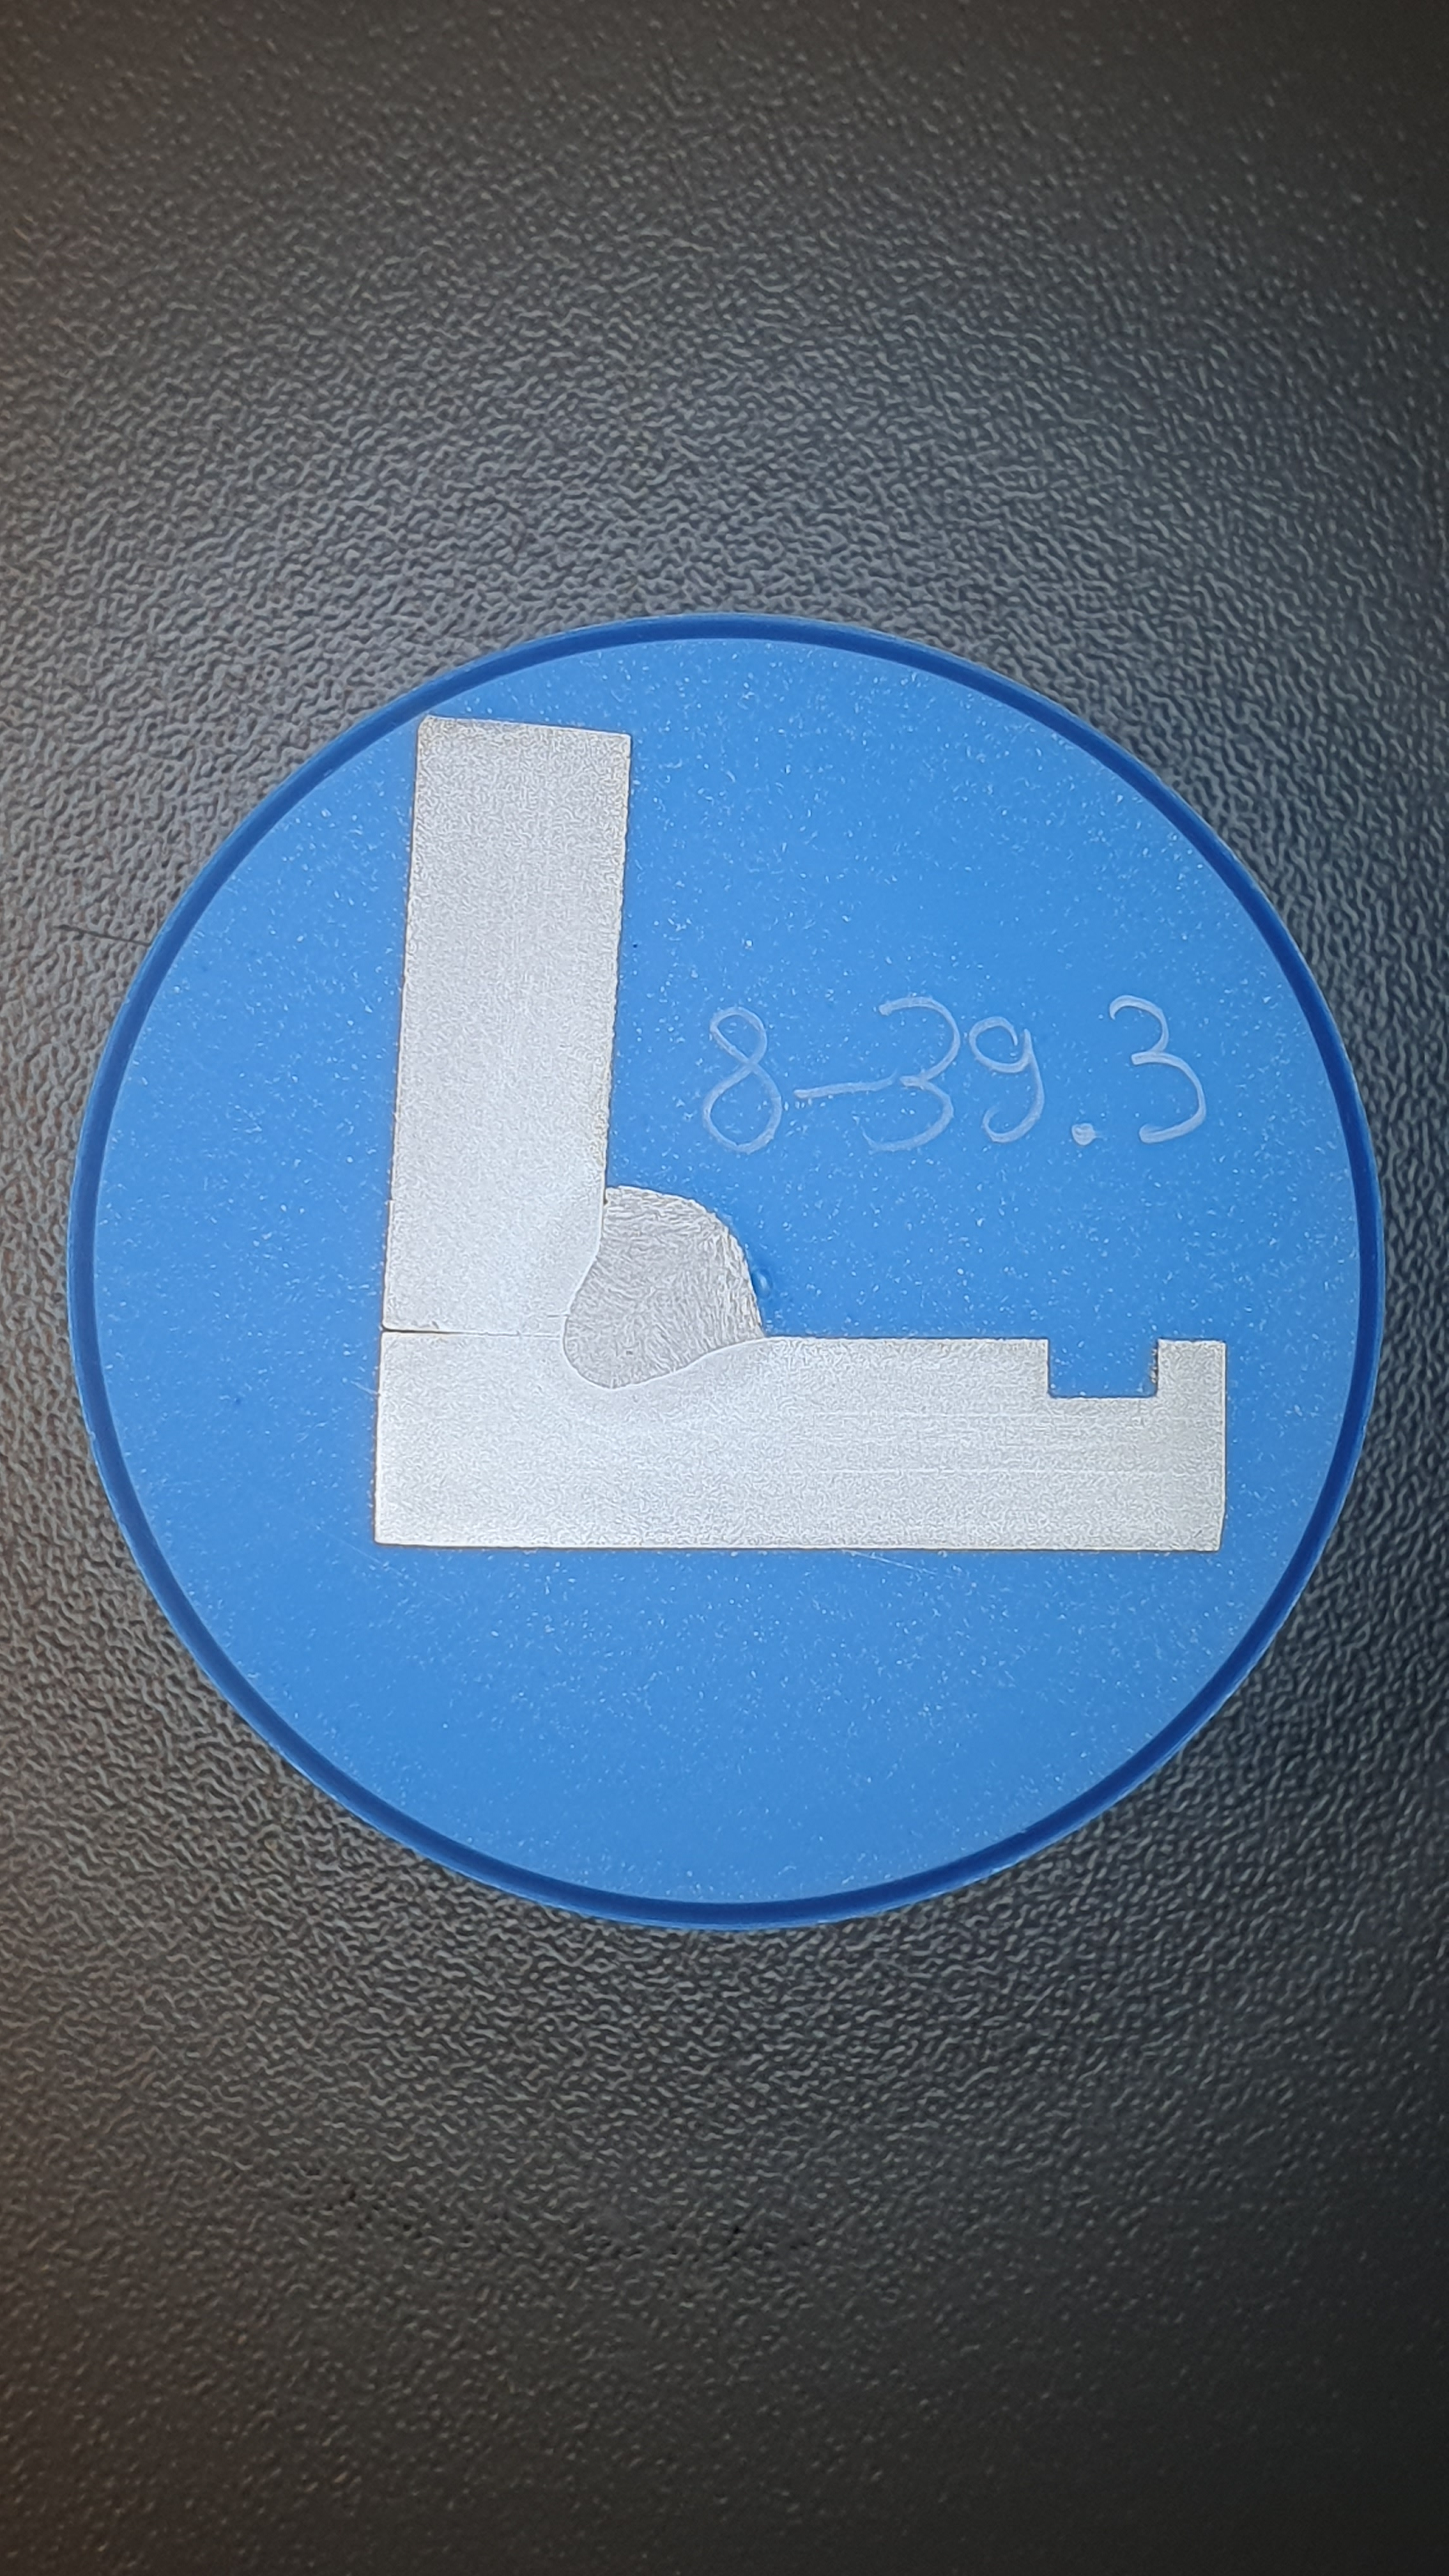Fusion: (562, 1184, 765, 1391)
Hintergrund: (93, 638, 1360, 1903)
Metall: (373, 713, 1226, 1551)
Nebenbereich: (523, 1161, 769, 1423)
